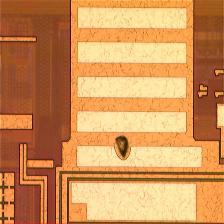PARTICLE: (112, 135, 134, 162)
